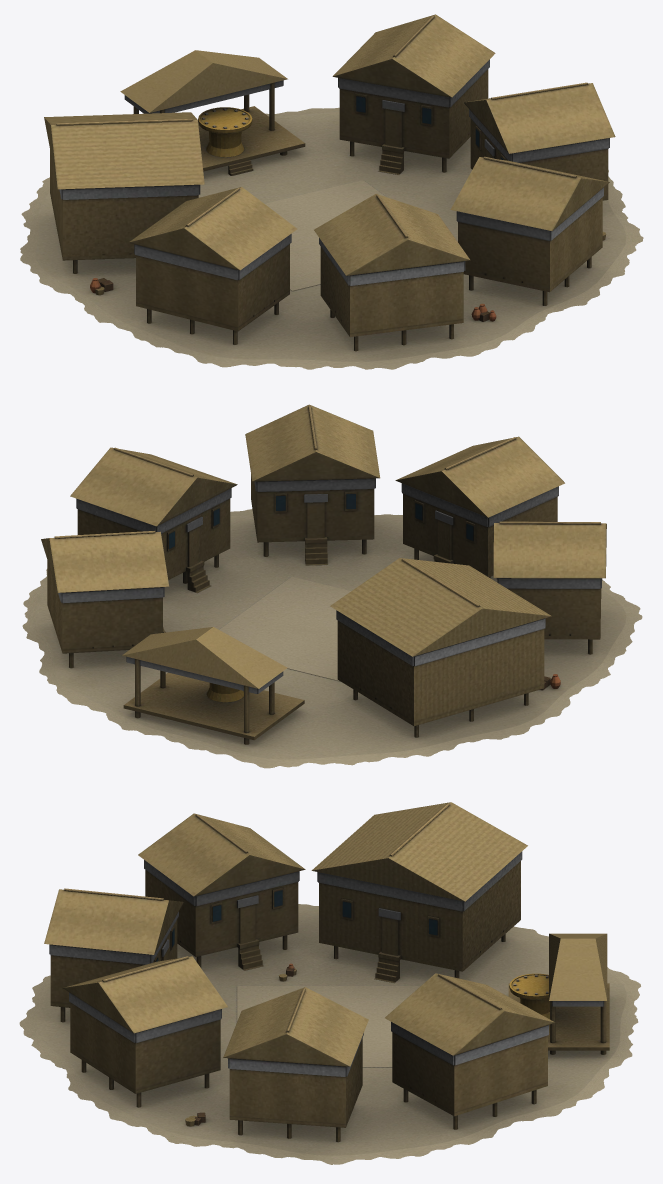
Rendered from bronze-town-small-a-monsoon-ce39c96c.glb.
3 renders of one model, top to bottom at view 1: azimuth 30°, elevation 25°; view 2: azimuth 150°, elevation 25°; view 3: azimuth 270°, elevation 25°, orthographic.
Visible parts, largest first — view 1: LOD0; view 2: LOD0; view 3: LOD0.
Part boxes in pixels (x1=…): LOD0: x1=20, y1=14, x2=643, y2=369; LOD0: x1=22, y1=404, x2=642, y2=768; LOD0: x1=19, y1=802, x2=640, y2=1164.
Size of what is drawn, in the model's own units: 3.98 by 0.8669 by 3.98.
Materials: 3 (3 with a texture image).
